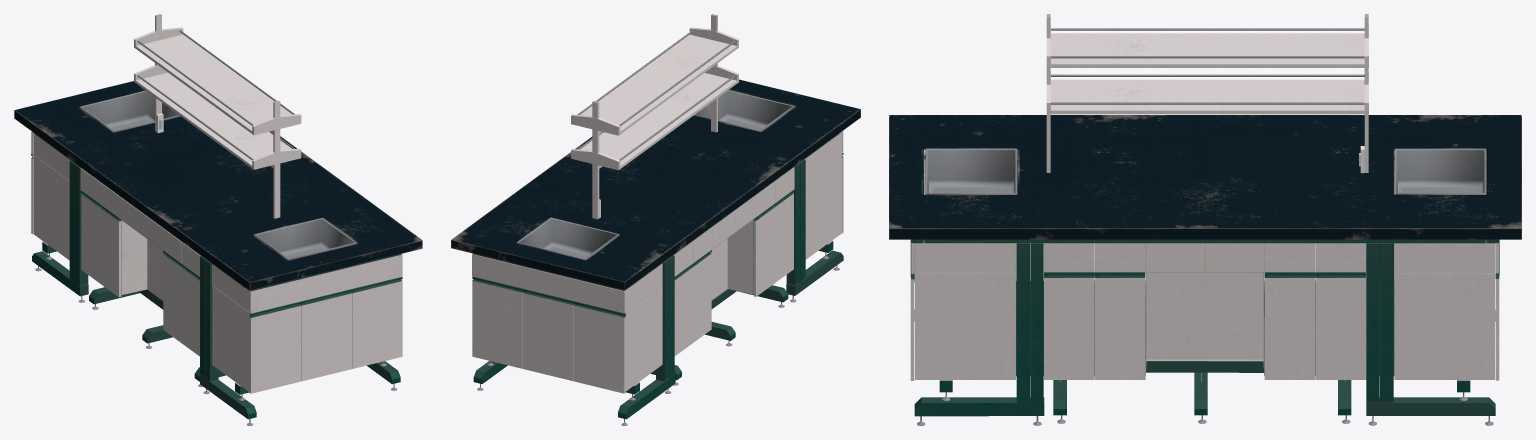
Rendered from LabTable.glb.
The picture shows the model from 3 angles, left to right: view 1: azimuth 30°, elevation 25°; view 2: azimuth 150°, elevation 25°; view 3: azimuth 270°, elevation 25°; orthographic projection. The views are drawn at different scales.
Parts seen in each view (by area): view 1: Object_2, Object_3; view 2: Object_2, Object_3; view 3: Object_2, Object_3.
Boxes of the visible parts, x1,y1,x2,y2 form: Object_2: [14, 27, 422, 425]; Object_3: [81, 14, 301, 393]; Object_2: [451, 27, 860, 425]; Object_3: [592, 14, 843, 379]; Object_2: [889, 25, 1521, 425]; Object_3: [1016, 14, 1394, 415].
Bounding box in the file's own units: 20.56 × 30.63 × 48.43.
1 material, 1 textured.
